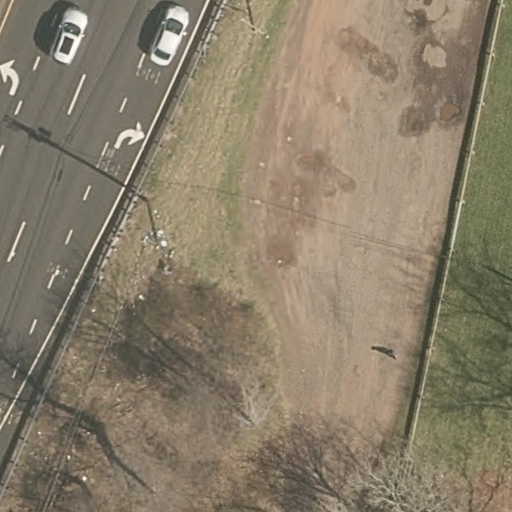DT: (136, 194, 181, 266), (230, 3, 273, 43)
